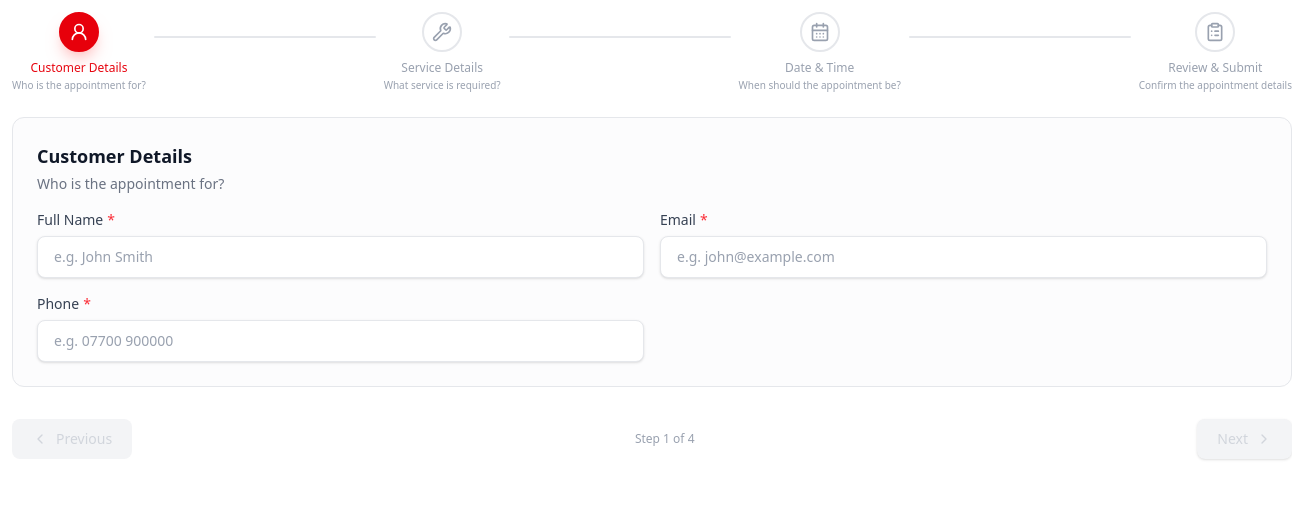
Test case: AppointmentForm Component › Step 1 — Customer Details Validation › advances to step 2 with valid data
The width and height of the screenshot is (1304, 523).
Type "John Smith" into the field with placeholder "e.g. John Smith" at (340, 257), box [37, 236, 644, 278]
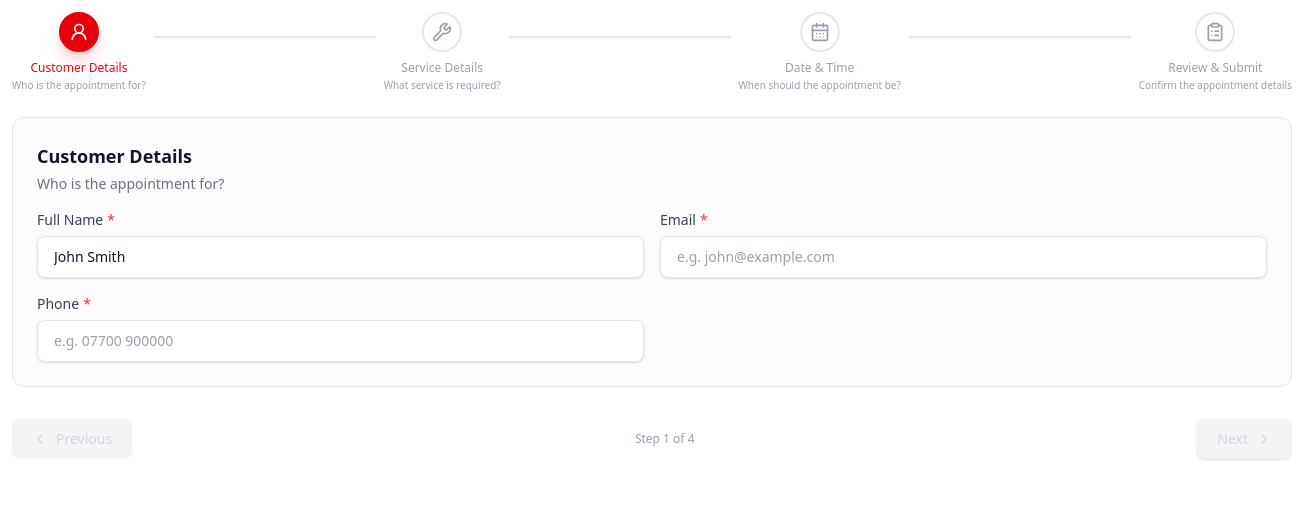
Type "john@example.com" into the field with placeholder "e.g. john@example.com" at (964, 257), box [660, 236, 1267, 278]
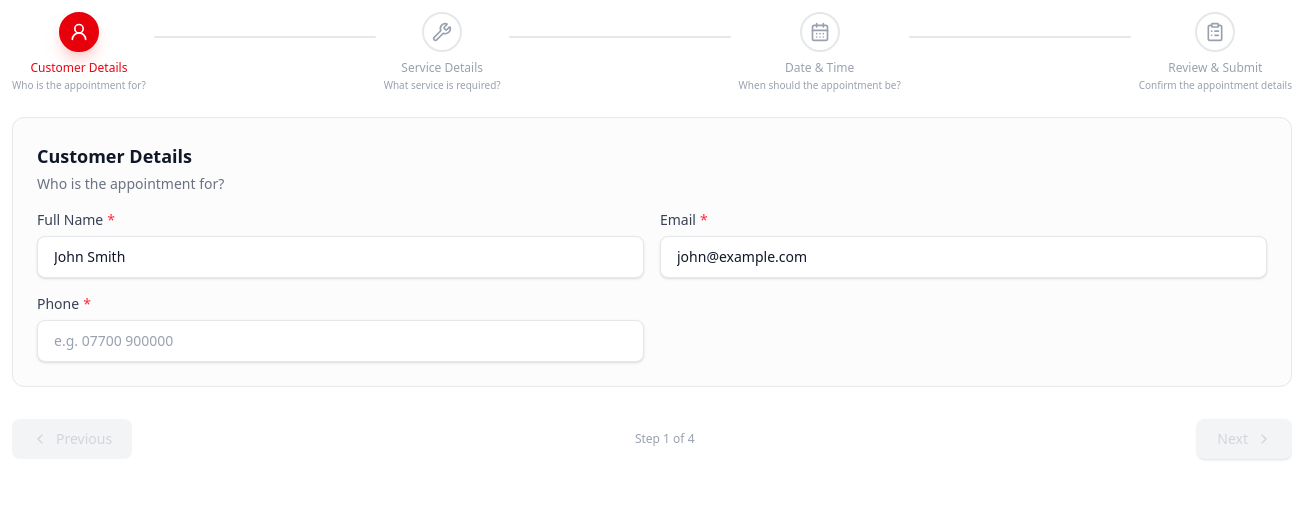
Type "07700 900000" into the field with placeholder "e.g. 07700 900000" at (340, 341), box [37, 320, 644, 362]
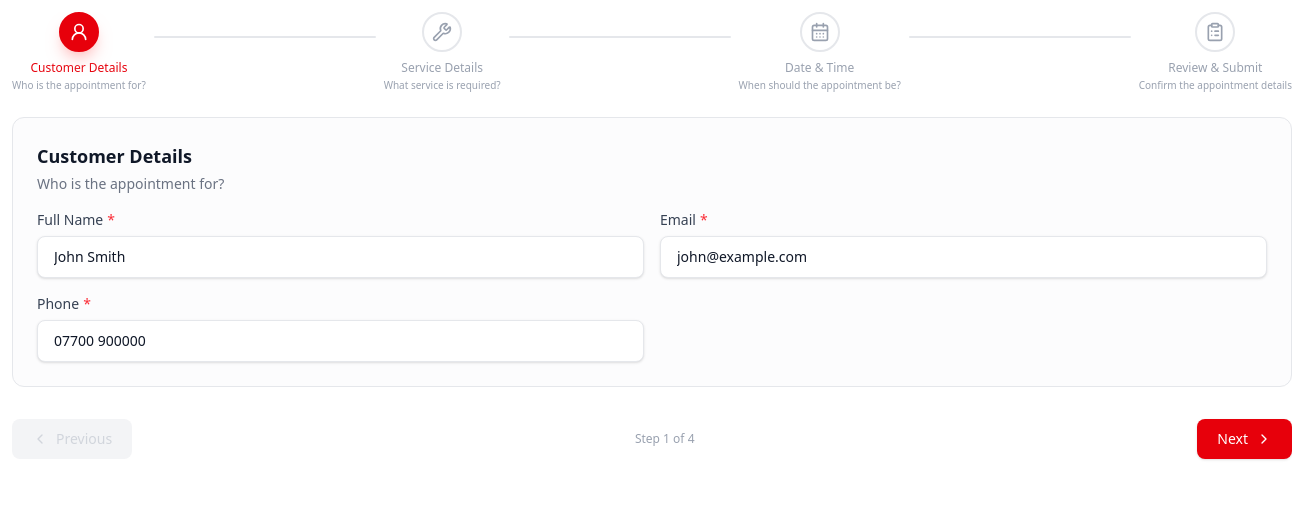
Click the button "Next" at (1245, 439), box [1197, 419, 1292, 459]
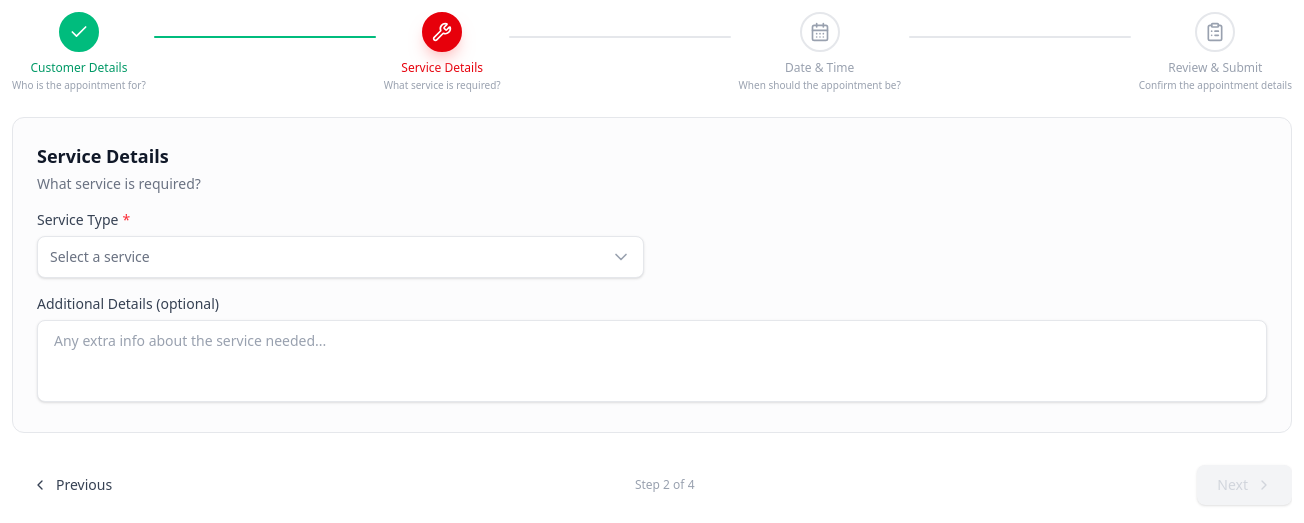
Result: the heading "Service Details" is shown at [37, 144, 169, 168]
